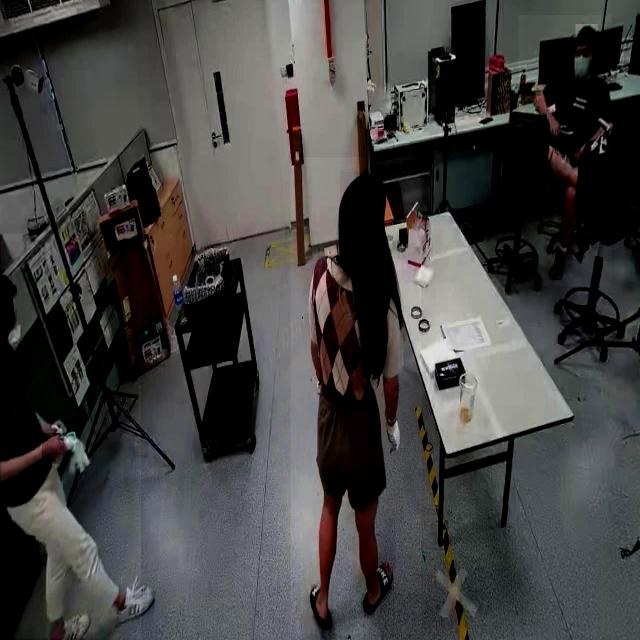face_mask: (570, 42, 594, 85)
hand_glove: (380, 408, 402, 466)
hand_noglove: (42, 433, 64, 465), (549, 115, 565, 137), (569, 148, 581, 166)
head_nohelmet: (340, 172, 386, 216), (575, 24, 598, 41)
person: (290, 157, 422, 635), (1, 234, 141, 639), (518, 15, 612, 287)
shoes: (547, 240, 572, 284)
